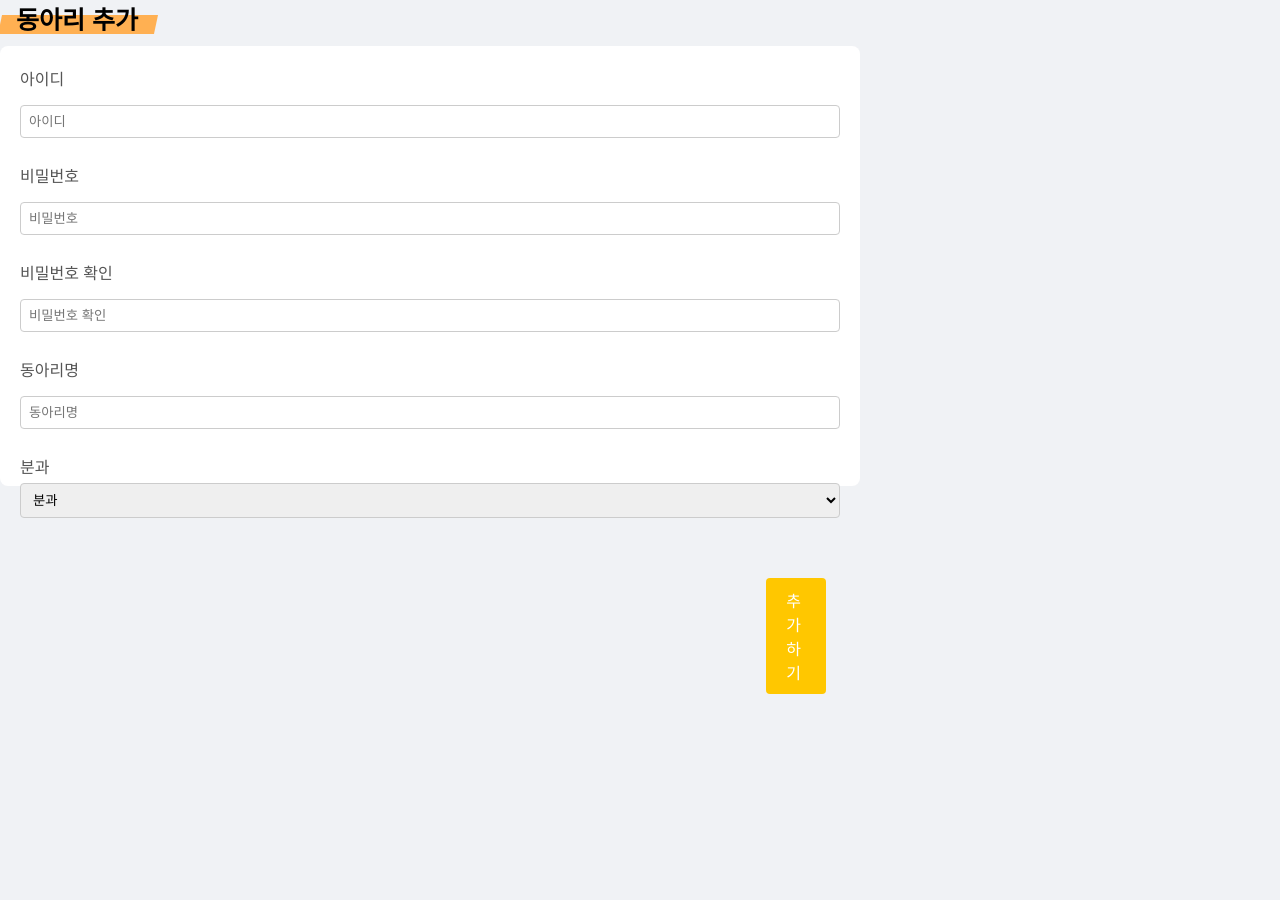
Test case: Admin AddClub.vue › shows popup when popupbtn is clicked
The width and height of the screenshot is (1280, 900).
Click the text "추가하기" at (796,636), box [766, 578, 826, 694]
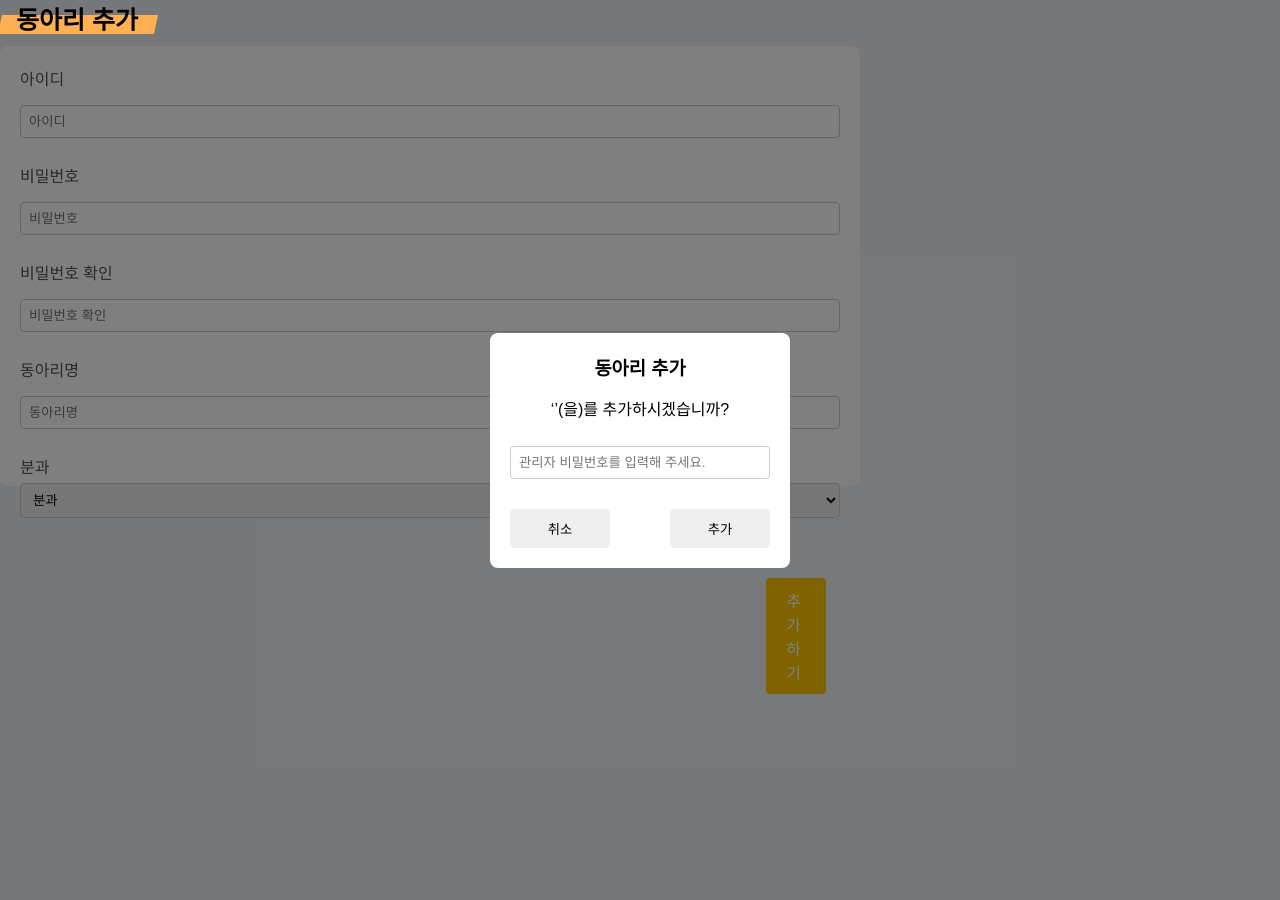
Expected: the element showing "동아리 추가 ‘’(을)를 추가하시겠습니까? 취소 추가" is shown
